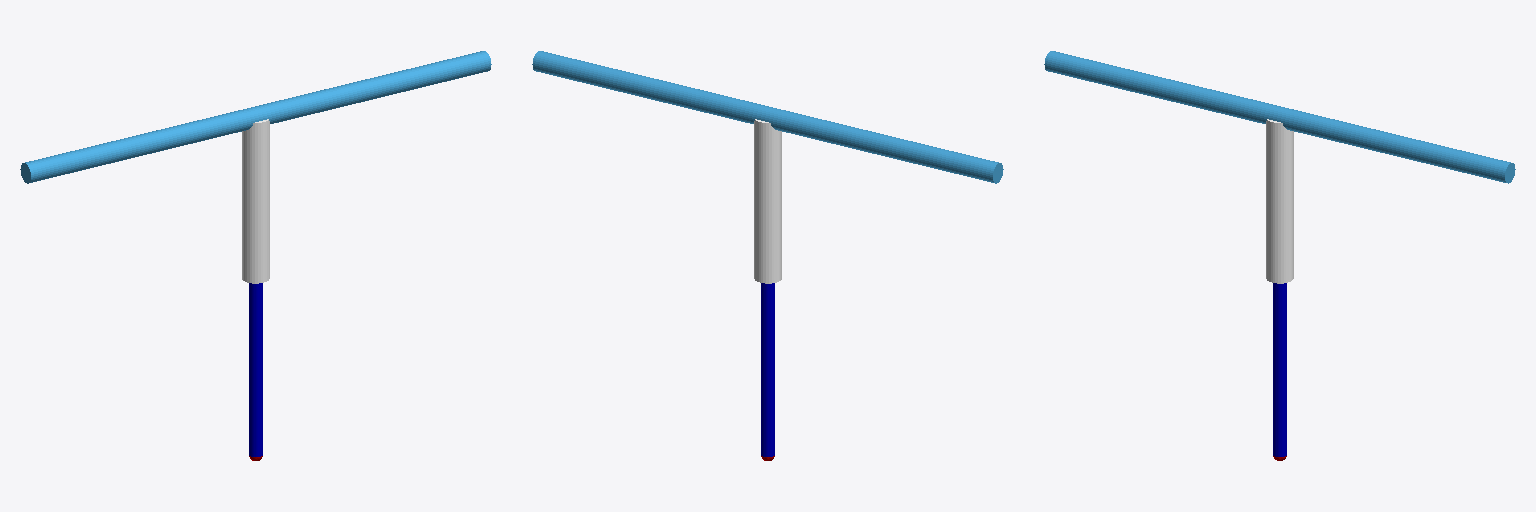
The robot description file, URDF, robot "1dhopper":
<?xml version="1.0"?>
<robot name="1dhopper">

   <material name="blue">
    <color rgba="0 0 0.8 1"/>
  </material>

  <material name="red">
   <color rgba="0.8 0 0 1"/>
 </material>

  <material name="white">
    <color rgba="1 1 1 0.5"/>
  </material>
  <link name="base_link">
    <visual>
      <geometry>
        <cylinder length="0.5" radius="0.04"/>
      </geometry>
      <material name="white"/>
    </visual>
    <collision>
       <geometry>
         <cylinder length="0.5" radius="0.04"/>
       </geometry>
     </collision>
     <inertial>
     <mass value="0.15"/>
     <inertia ixx="0.4" ixy="0.0" ixz="0.0" iyy="0.4" iyz="0.0" izz="0.2"/>
   </inertial>

  </link>

 <link name="balance_beam">
    <visual>
      <geometry>
        <cylinder length="1.5" radius="0.03"/>
      </geometry>
      <origin rpy="0 1.57075 0" xyz="0 0 0"/>
    </visual>
    <collision>
       <geometry>
         <cylinder length="1.5" radius="0.03"/>
       </geometry>
       <origin rpy="0 1.57075 0" xyz="0 0 0"/>
     </collision>
     <inertial>
     <mass value="8"/>
     <inertia ixx="0.4" ixy="0.0" ixz="0.0" iyy="0.4" iyz="0.0" izz="0.2"/>
     <origin rpy="0 1.57075 0" xyz="0 0 0"/>
   </inertial>
  </link>

<joint name="base_to_beam" type="continuous">
    <axis xyz="0 1 0"/>
    <!-- <limit effort="1000.0" lower="-0.8" upper="0.8" velocity="10"/> -->
    <parent link="base_link"/>
    <child link="balance_beam"/>
    <origin xyz="0 0 0.25"/>

  </joint>

<link name="leg">
    <visual>
      <geometry>
        <cylinder length="0.6" radius="0.02"/>
      </geometry>
      <material name="blue"/>
      <origin rpy="0 0 0" xyz="0 0 0"/>
    </visual>
    <collision>
       <geometry>
         <cylinder length="0.6" radius="0.02"/>
       </geometry>
       <origin rpy="0 0 0" xyz="0 0 0"/>
     </collision>
     <inertial>
     <mass value="0.45"/>
     <inertia ixx="0.4" ixy="0.0" ixz="0.0" iyy="0.4" iyz="0.0" izz="0.2"/>
     <origin rpy="0 0 0" xyz="0 0 -0.4"/>
   </inertial>
  </link>

<joint name="foot_joint" type="prismatic">
    <axis xyz="0 0 1"/>
    <limit effort="1000.0" lower="0" upper="0.4" velocity="10"/>
    <dynamics damping="10.5" friction="0.8"/>
    <parent link="base_link"/>
    <child link="leg"/>
    <origin xyz="0 0 -0.5"/>

  </joint>

  <link name="toe">
    <visual>
      <geometry>
        <sphere radius="0.02"/>
      </geometry>
      <material name="red"/>
    </visual>
    <collision>
      <geometry>
        <sphere radius="0.02"/>
      </geometry>
     </collision>
     <inertial>
     <mass value="0.45"/>
     <mass value="0.01"/>
     <inertia ixx="1.0" ixy="0.0" ixz="0.0" iyy="1.0" iyz="0.0" izz="1.0"/>
   </inertial>

  </link>

  <joint name="leg_toe" type="fixed">
      <parent link="leg"/>
      <child link="toe"/>
      <origin xyz="0 0 -0.3"/>
    </joint>

</robot>

--- What the picture shows (computed from the rendered views, not written in the file) ---
Views: 3 orthographic renders of the robot side by side, from view 1: azimuth 30°, elevation 25°; view 2: azimuth 150°, elevation 25°; view 3: azimuth 330°, elevation 25°.
Model 1dhopper with 4 links and 3 joints (1 continuous, 1 prismatic, 1 fixed), rooted at base_link, posed all joints at 0.
Visible links, largest first — view 1: balance_beam, base_link, leg; view 2: balance_beam, base_link, leg; view 3: balance_beam, base_link, leg.
Link boxes in pixels (<box>): balance_beam: <box>20,51,491,183</box>; base_link: <box>242,119,269,283</box>; leg: <box>249,283,262,456</box>; balance_beam: <box>532,51,1003,183</box>; base_link: <box>754,119,781,283</box>; leg: <box>761,283,774,456</box>; balance_beam: <box>1044,51,1515,183</box>; base_link: <box>1266,119,1293,283</box>; leg: <box>1273,283,1286,456</box>.
Size in the robot's own frame: 1.5 by 0.08 by 1.1 metres.
Geometry: primitives only (box / cylinder / sphere), no mesh files.
